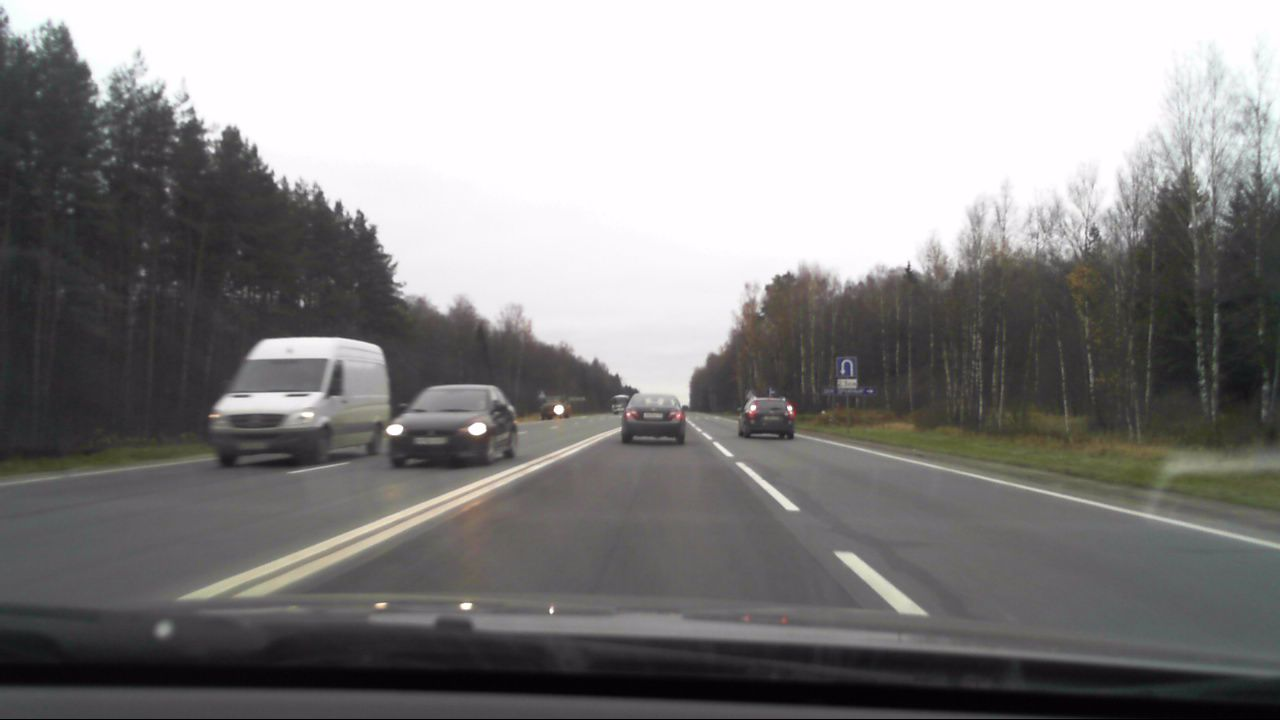U-turn: (837, 358, 856, 378)
